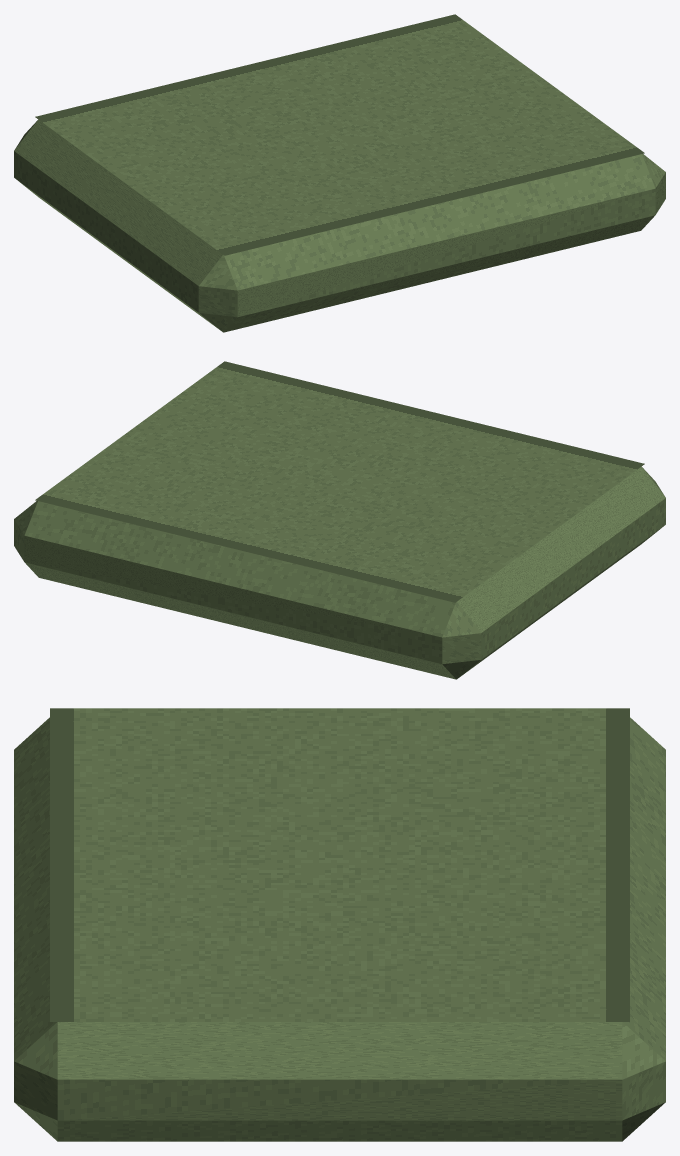
Rendered from blanket_weighted.glb.
3 views of the same model, one above another, from view 1: azimuth 30°, elevation 25°; view 2: azimuth 150°, elevation 25°; view 3: azimuth 270°, elevation 25° (orthographic). The views are drawn at different scales.
Parts seen in each view (by area): view 1: block_hem or woven pattern, block_folded textile; view 2: block_hem or woven pattern, block_folded textile; view 3: block_hem or woven pattern, block_folded textile.
Boxes of the visible parts, x1=… form: block_hem or woven pattern: x1=35, y1=14, x2=644, y2=255; block_folded textile: x1=14, y1=119, x2=665, y2=332; block_hem or woven pattern: x1=35, y1=361, x2=644, y2=602; block_folded textile: x1=14, y1=466, x2=665, y2=679; block_hem or woven pattern: x1=50, y1=708, x2=629, y2=1021; block_folded textile: x1=14, y1=717, x2=665, y2=1141.
Bounding box in the file's own units: 0.43 × 0.0695 × 0.34.
Materials: 1 (1 with a texture image).
